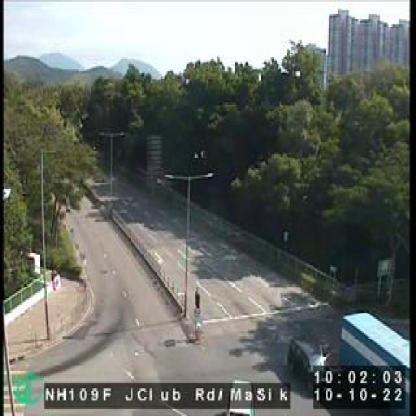Car: (288, 330, 330, 384)
Truck: (337, 309, 407, 408)
